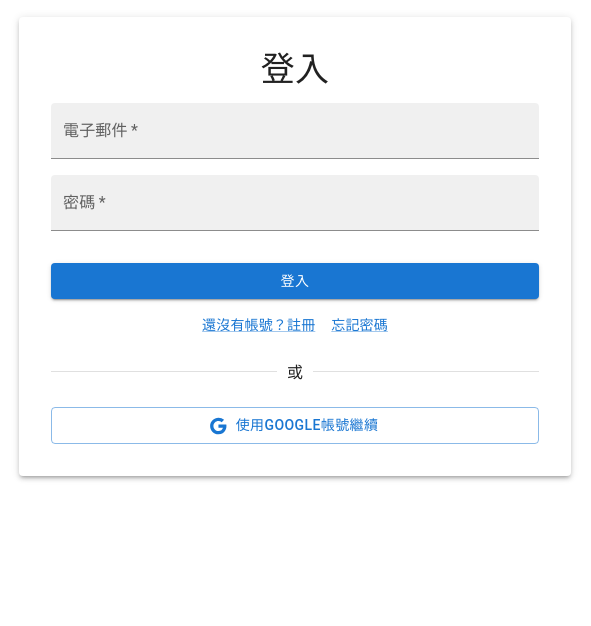
Test case: Login › Sign In Mode › switches to sign up mode
Step 1. Click the button "還沒有帳號？註冊" → (259, 325), box 202,315 -> 315,335
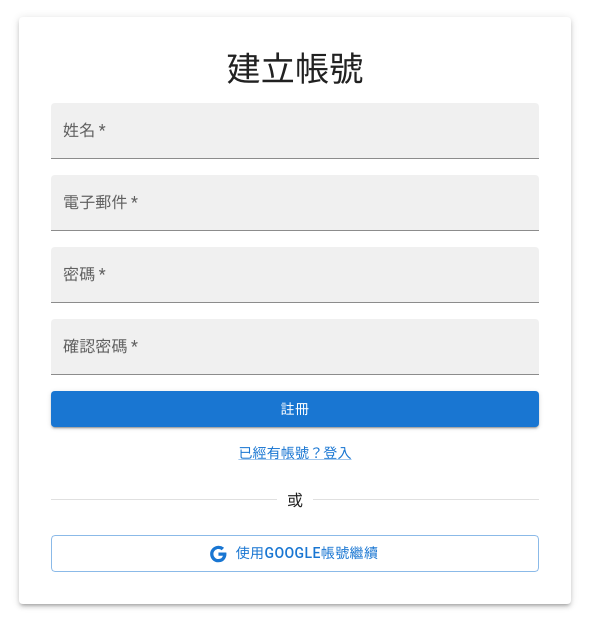
Now the heading "建立帳號" is shown, box 226,49 -> 364,89
Now the field labelled "姓名 *" is shown, box 51,103 -> 539,159
Now the password field labelled "確認密碼 *" is shown, box 51,319 -> 539,375
